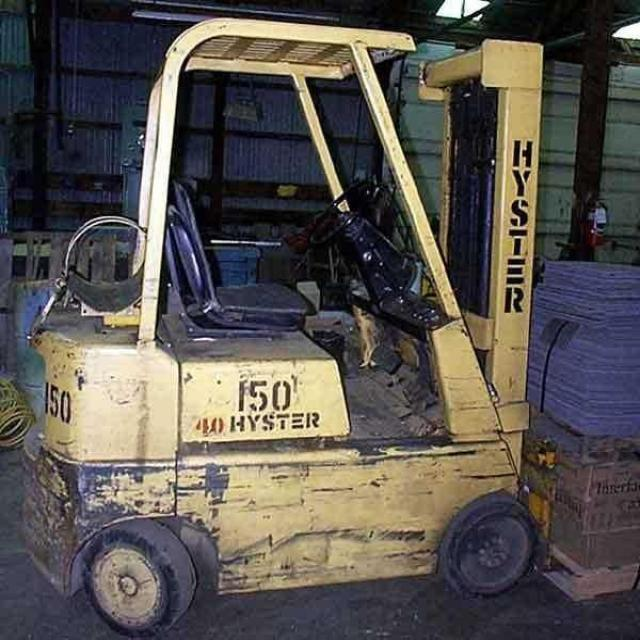forklift: (25, 16, 550, 636)
